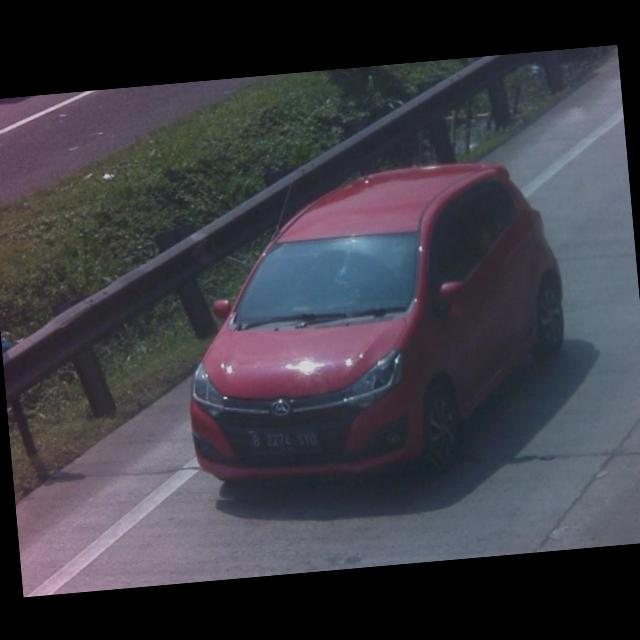plate: (247, 422, 321, 455)
